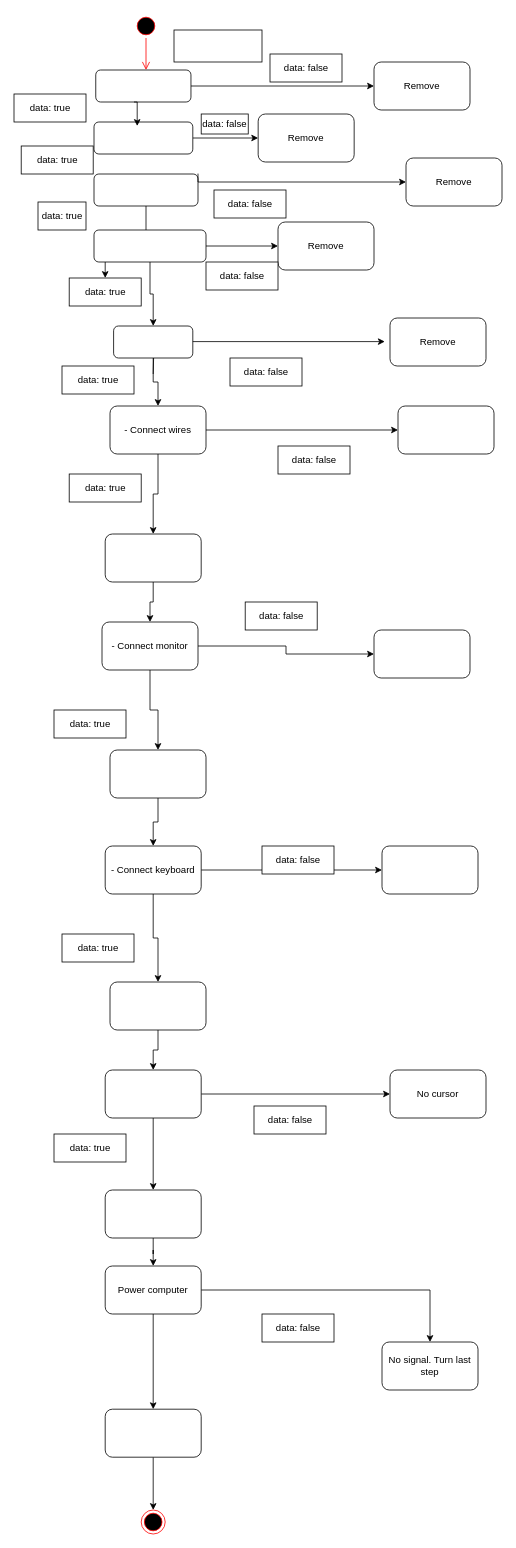
Some shapes in this 516 by 1548 pixel diagram are drawn without their labels. The box of each missing label's shape, as (x1, y1, x2, y2) in pixels:
- Complete frame: (104, 533, 201, 582)
- Install CPU: (95, 69, 191, 102)
- Install RAM: (93, 121, 193, 154)
- Install Soundcard: (113, 325, 193, 358)
- Install SSD: (93, 229, 206, 262)
- Install Videocard: (93, 173, 198, 206)
Connect mouse: (104, 1069, 201, 1118)
Have signal: (109, 981, 206, 1030)
Instal devices: (173, 29, 262, 62)
No signal: (381, 845, 478, 894)
Show cursor: (104, 1189, 201, 1238)
Show erorr: (373, 629, 470, 678)
Show monitor picture: (109, 749, 206, 798)
Smoke: (397, 405, 494, 454)
Successfully: (104, 1408, 201, 1457)
